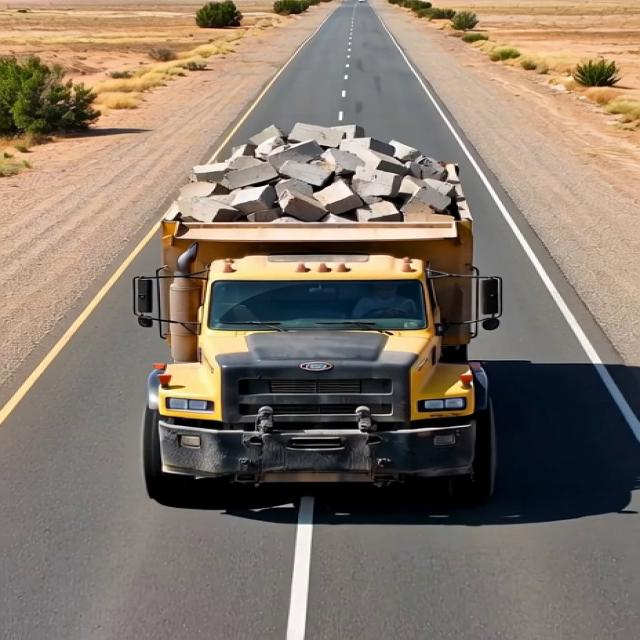Box: (167, 121, 514, 256)
Truck: (124, 101, 520, 509)
